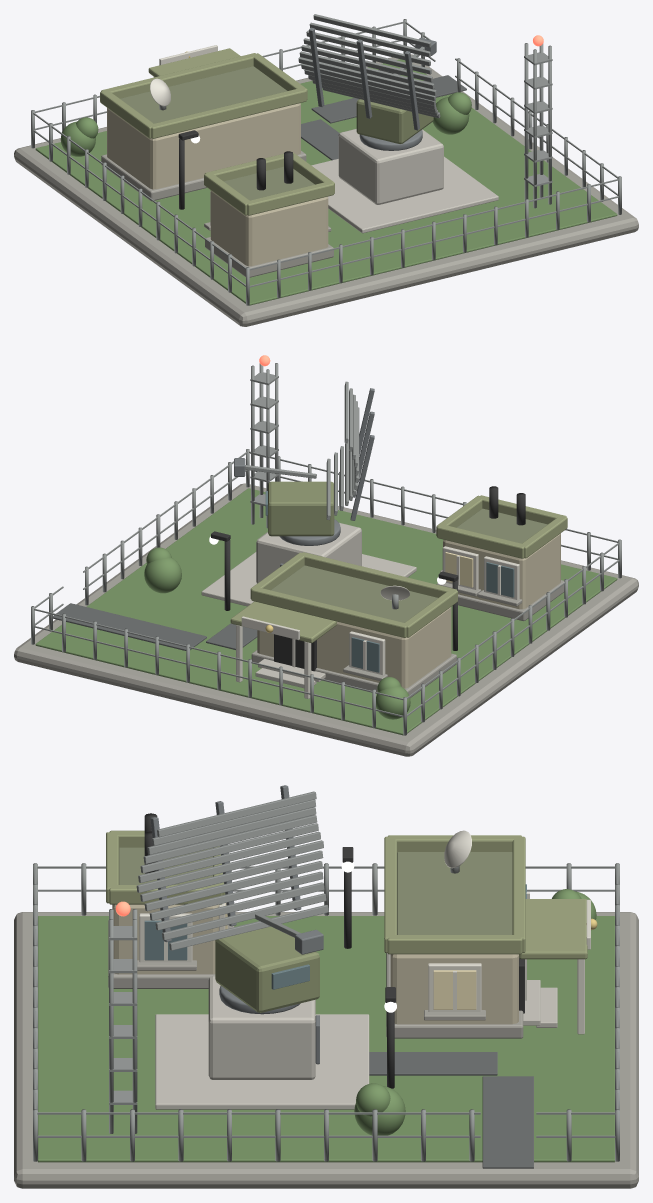
Rendered from radar_3.glb.
3 views of the same model, one above another, from view 1: azimuth 30°, elevation 25°; view 2: azimuth 150°, elevation 25°; view 3: azimuth 270°, elevation 25° (orthographic). The views are drawn at different scales.
Visible parts, largest first — view 1: Cube.001, Cube, Cube.027, Cube.050, Cube.005, Cube.002, Cube.037, Cube.038, Cube.007, Cube.039, Cube.064, Cube.065 (+35 smaller); view 2: Cube.001, Cube, Cube.027, Cube.037, Cube.007, Cube.050, Cube.005, Cube.003, Cube.039, Cube.002, Cube.038, Cube.044 (+22 smaller); view 3: Cube.001, Cube, Cube.002, Cube.037, Cube.005, Cube.007, Cube.027, Cube.003, Cube.044, Cube.004, Cube.041, Cube.050 (+45 smaller).
Part boxes in pixels (<box>): Cube.001: <box>35,59,617,305</box>; Cube: <box>14,54,638,326</box>; Cube.027: <box>107,103,300,189</box>; Cube.050: <box>210,190,328,266</box>; Cube.005: <box>338,128,443,204</box>; Cube.002: <box>311,156,498,233</box>; Cube.037: <box>120,66,287,123</box>; Cube.038: <box>150,88,306,138</box>; Cube.007: <box>356,99,433,144</box>; Cube.039: <box>101,53,257,98</box>; Cube.064: <box>224,166,314,200</box>; Cube.065: <box>246,181,333,215</box>; Cube.001: <box>35,488,617,735</box>; Cube: <box>14,483,638,756</box>; Cube.027: <box>257,607,451,688</box>; Cube.037: <box>271,565,437,622</box>; Cube.007: <box>268,481,334,536</box>; Cube.050: <box>443,533,560,609</box>; Cube.005: <box>256,522,361,583</box>; Cube.003: <box>53,603,206,650</box>; Cube.039: <box>251,587,407,637</box>; Cube.002: <box>201,552,416,606</box>; Cube.038: <box>300,552,456,597</box>; Cube.044: <box>230,601,336,643</box>; Cube.001: <box>37,916,615,1162</box>; Cube: <box>14,912,638,1188</box>; Cube.002: <box>155,1014,369,1109</box>; Cube.037: <box>397,852,512,934</box>; Cube.005: <box>208,976,315,1079</box>; Cube.007: <box>215,926,319,1012</box>; Cube.027: <box>390,954,518,1024</box>; Cube.003: <box>482,1076,533,1168</box>; Cube.044: <box>519,899,587,959</box>; Cube.004: <box>369,1052,497,1075</box>; Cube.041: <box>387,935,522,954</box>; Cube.050: <box>112,904,219,974</box>.
Bounding box in the file's own units: 2.92 × 1.33 × 2.92.
